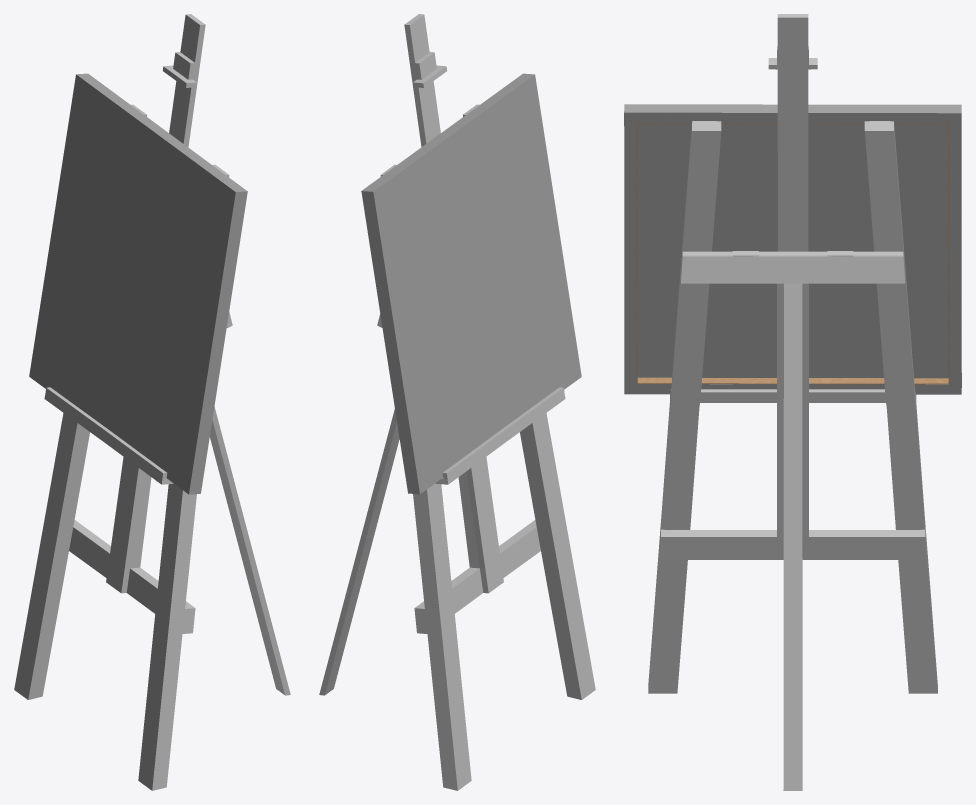
File: LienzoBlanco.fbx
3 views of the same model, side by side, from view 1: azimuth 30°, elevation 25°; view 2: azimuth 150°, elevation 25°; view 3: azimuth 270°, elevation 25° (orthographic). The views are drawn at different scales.
Visible parts, largest first — view 1: canvas, easel; view 2: canvas, easel; view 3: easel, canvas.
Boxes of the visible parts, x1=… form: canvas: x1=29, y1=73, x2=247, y2=494; easel: x1=14, y1=14, x2=290, y2=790; canvas: x1=361, y1=73, x2=581, y2=494; easel: x1=319, y1=14, x2=595, y2=790; easel: x1=648, y1=14, x2=937, y2=790; canvas: x1=624, y1=104, x2=961, y2=394.
Size of the model in its own units: 54.67 by 179 by 74.99.
